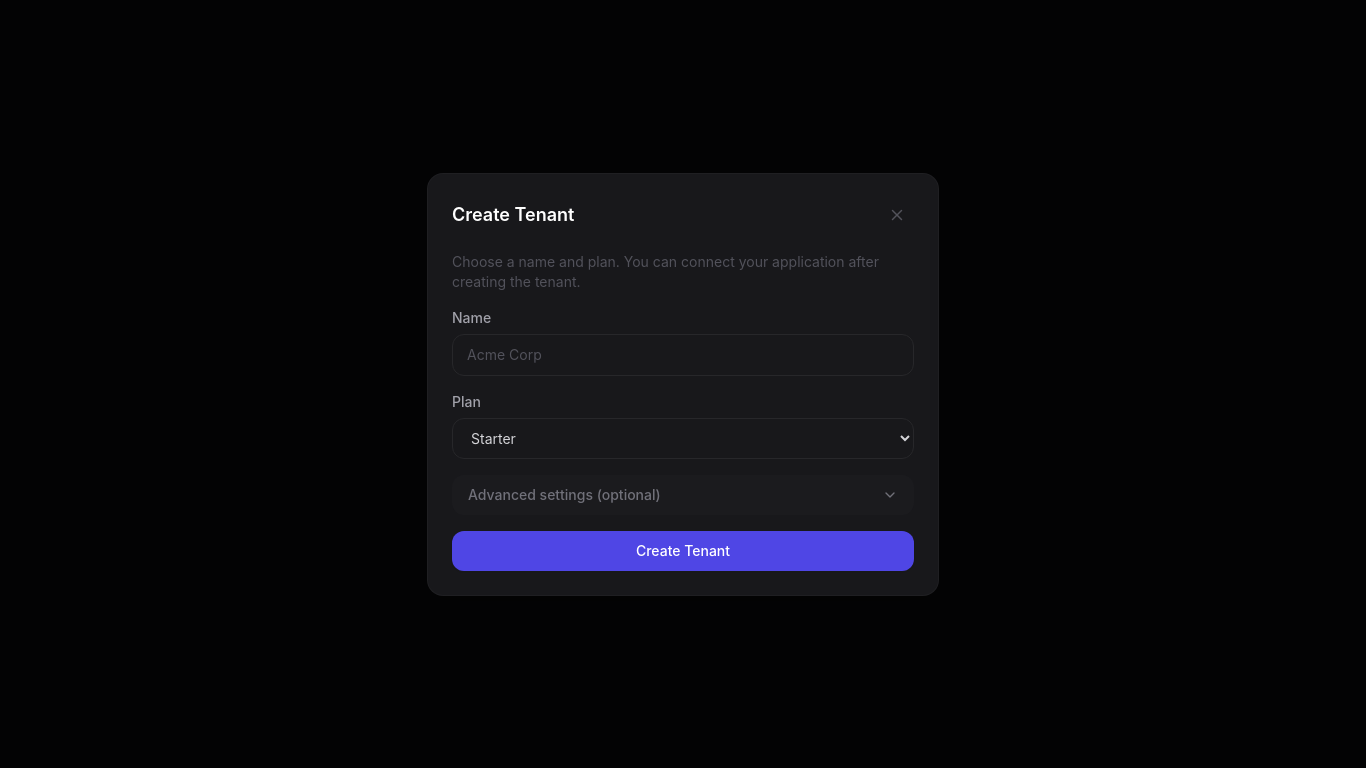
Test case: Tenant onboarding › creates a tenant with name and plan and shows the generated key
Type " New Company " into the field labelled "Name". click: (683, 354)
box: [452,334,914,376]
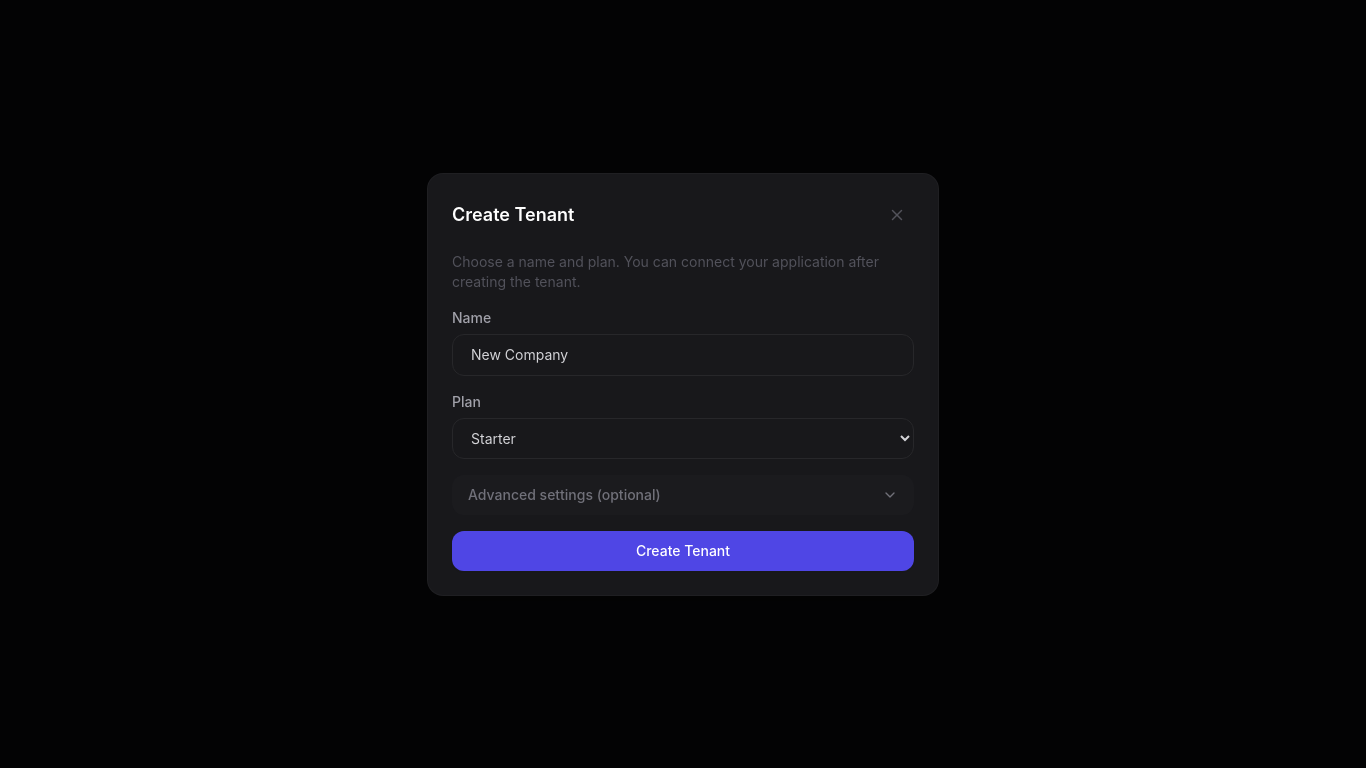
Select "Pro" in the dropdown labelled "Plan". click: (683, 438)
box: [452,418,914,458]
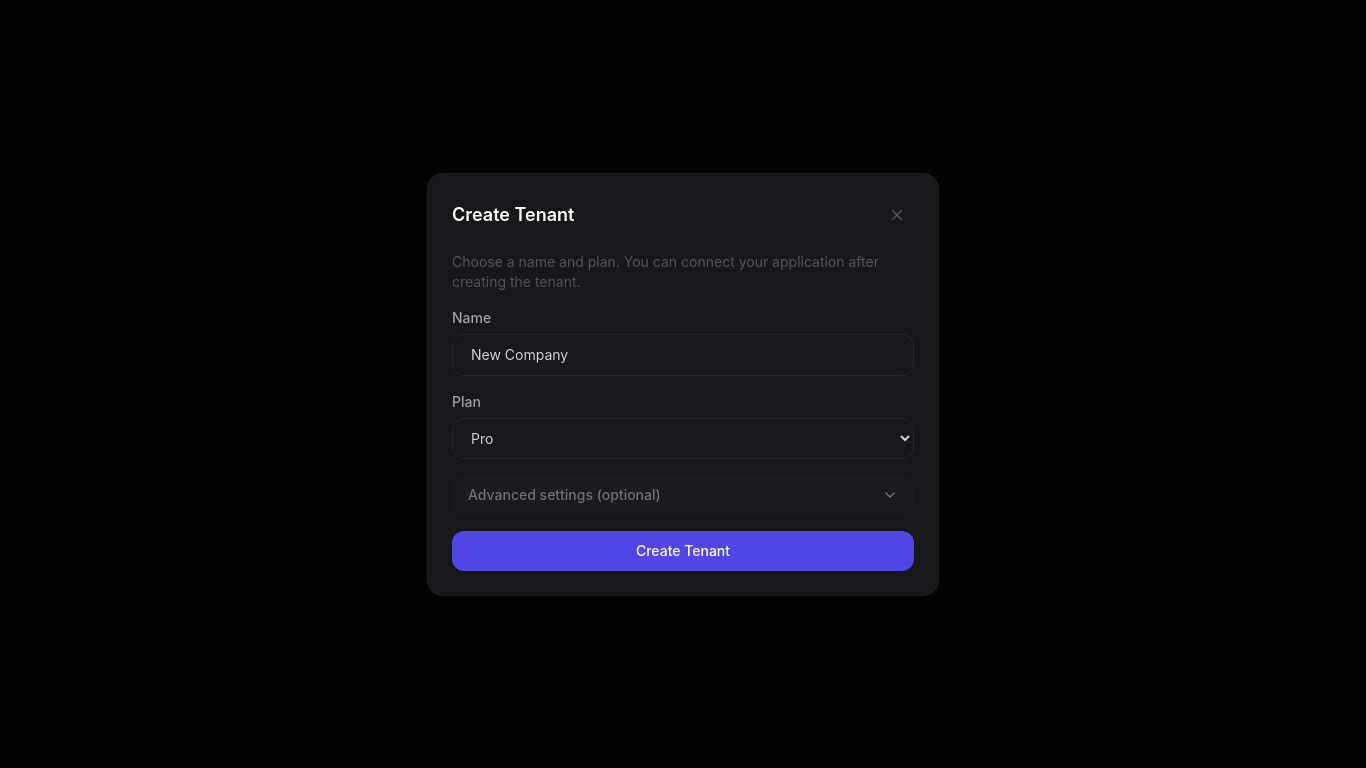
Click the button "Create Tenant". click: click(683, 550)
box: [452,530,914,570]
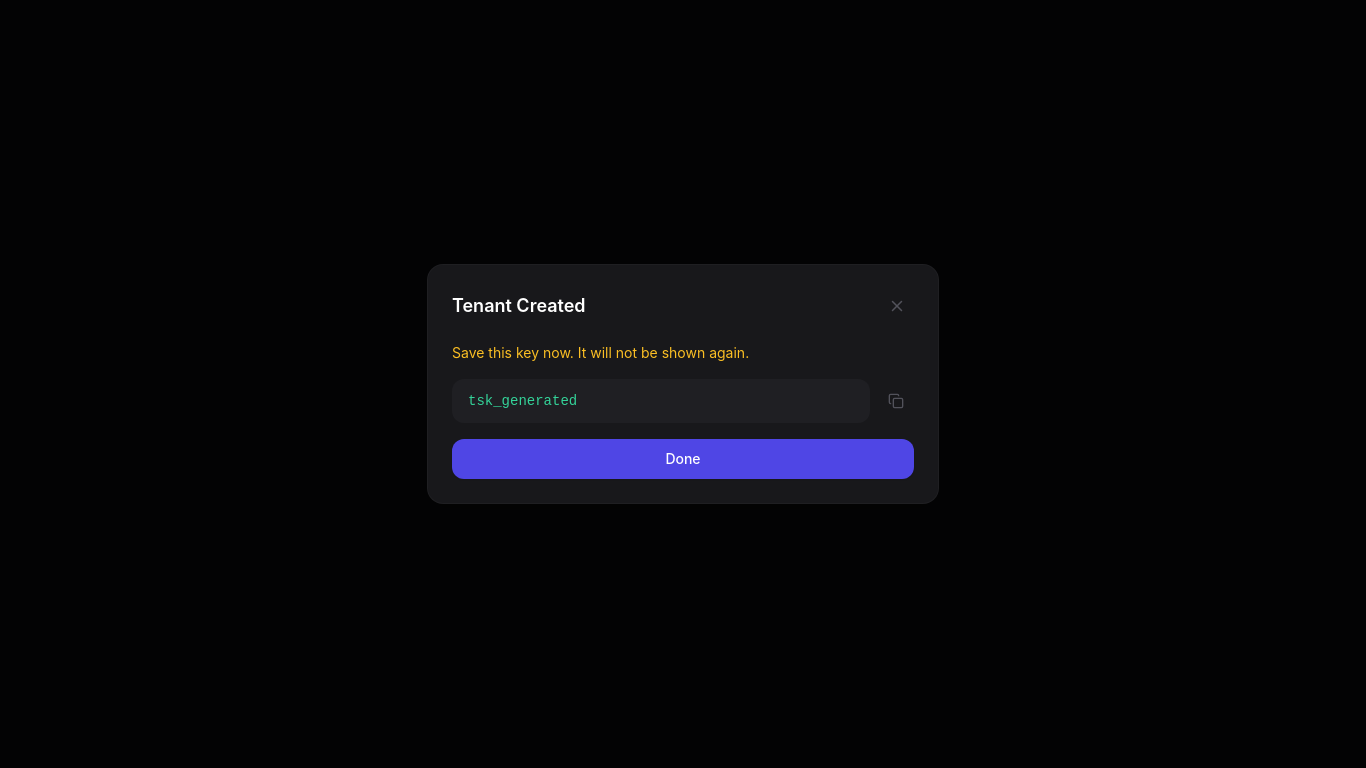
Now the heading "Tenant Created" is shown, box [452,292,586,320]
Now the text "tsk_generated" is shown, box [452,379,870,423]
